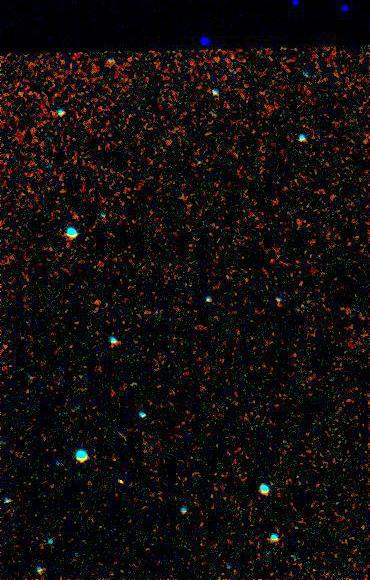star: (107, 465, 137, 495)
